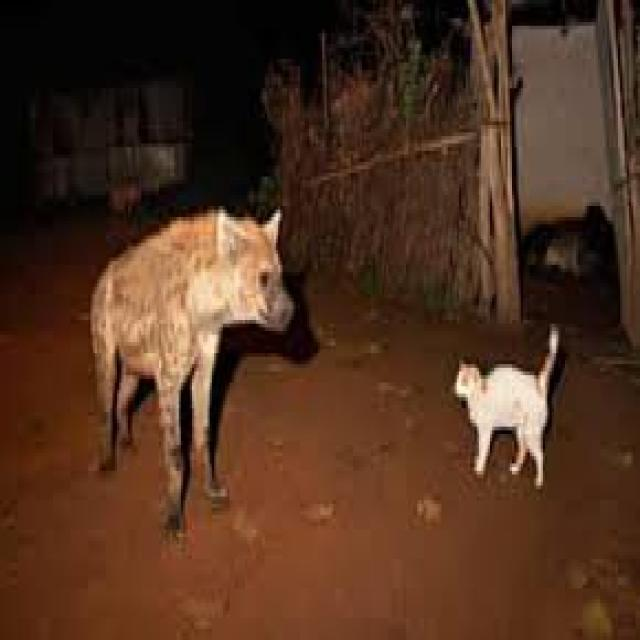Hyena: (87, 199, 291, 521)
